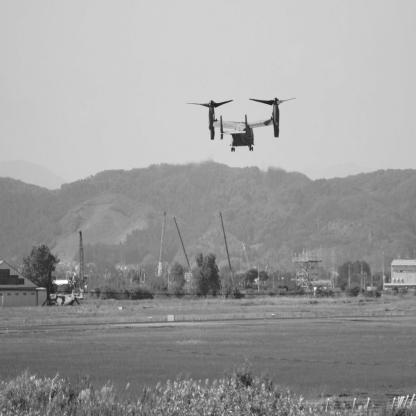V22: (187, 99, 297, 154), (43, 278, 85, 308)
